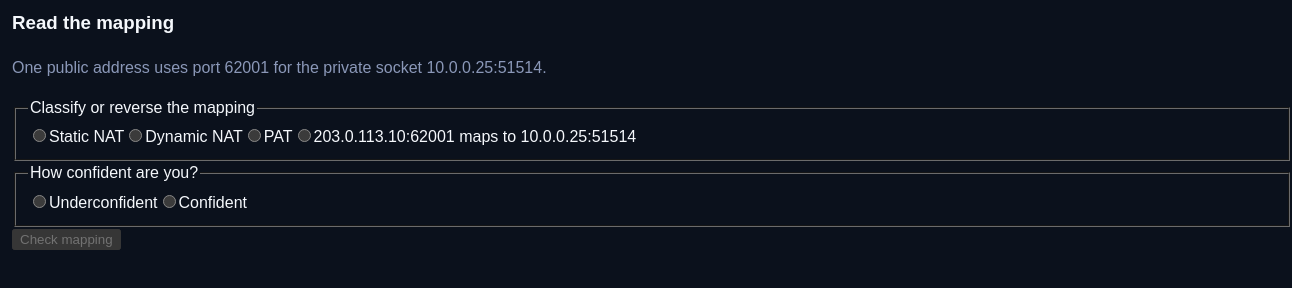
Test: NatMappingLab › explains mapping classification immediately and completes an incorrect attempt once
Click the radio button labelled "Static NAT". click: (40, 136)
box: [33,129,46,142]
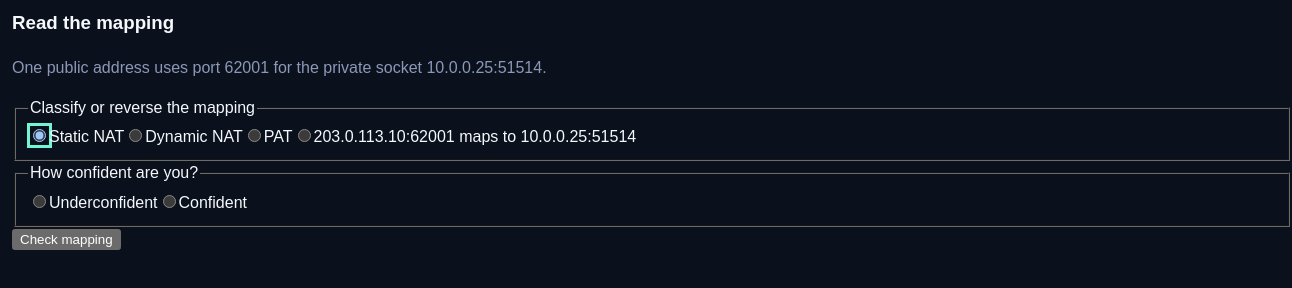
Click the button "Check mapping". click: (66, 239)
box: [12,229,121,250]
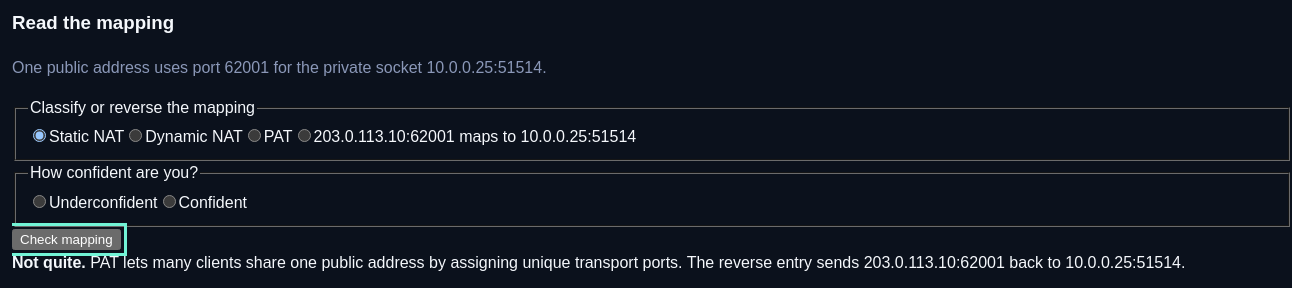
Check: the message shows "PAT lets many clients", box [86,254,1186,271]
Check: the message shows "Not quite", box [12,254,86,271]
